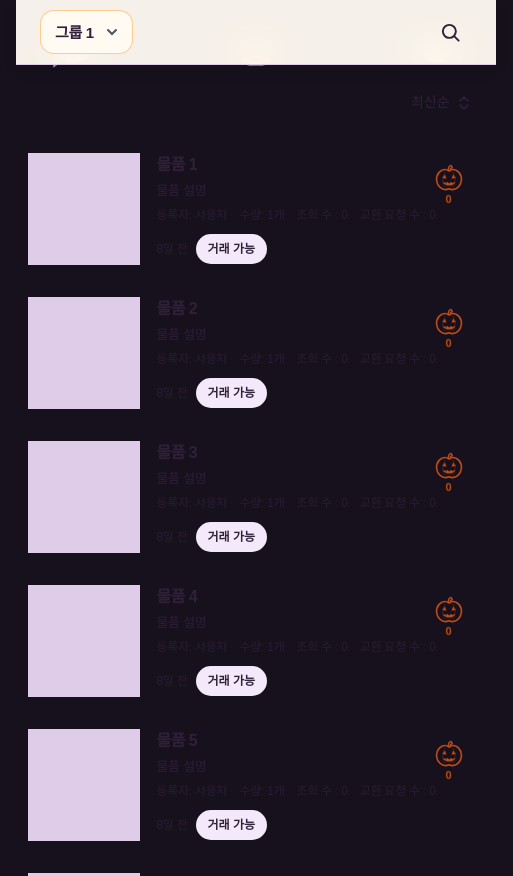
Test: 그룹 전환과 재선택 시 새 첫 페이지를 조회하고 최상단으로 이동한다
The width and height of the screenshot is (513, 876).
Click the button "그룹 1".
click(86, 32)  # box [40,10,133,54]
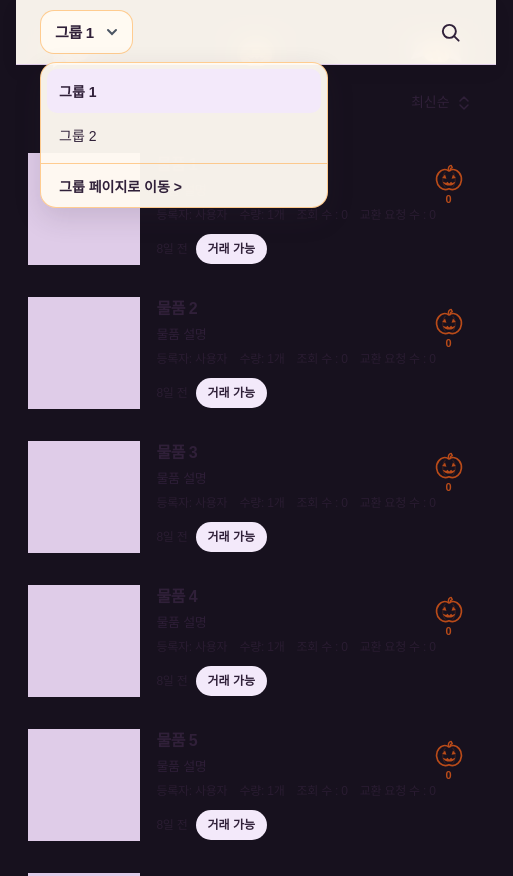
Click the button "그룹 2".
click(78, 136)  # box [47,113,321,157]
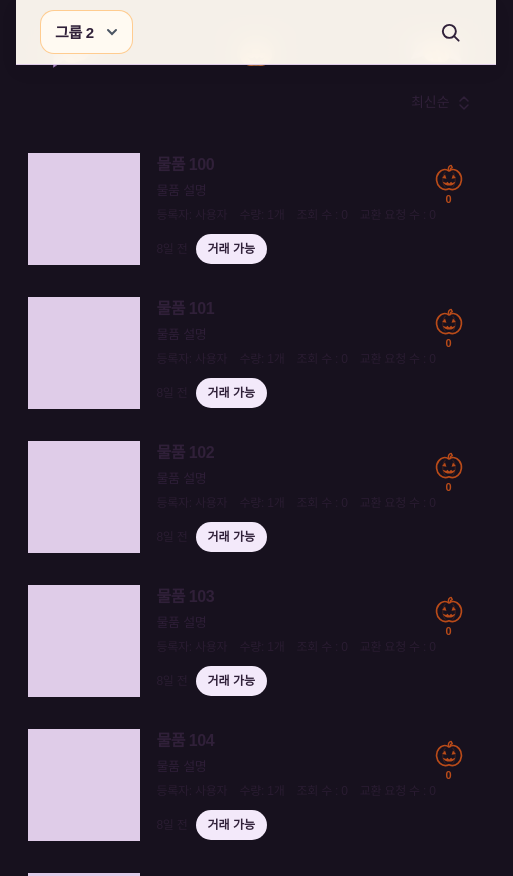
Click the button "그룹 2".
click(86, 32)  # box [40,10,133,54]
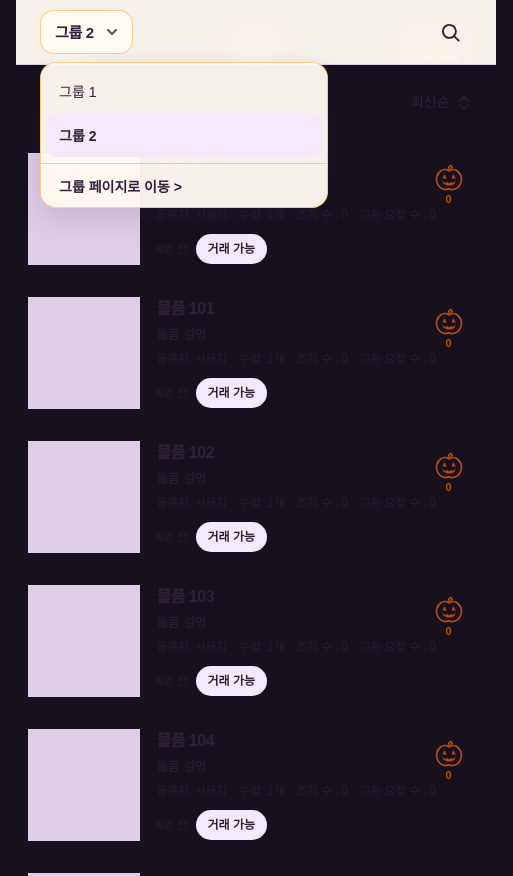
Click the button "그룹 1".
click(78, 92)  # box [47,69,321,113]
(page scrolled)
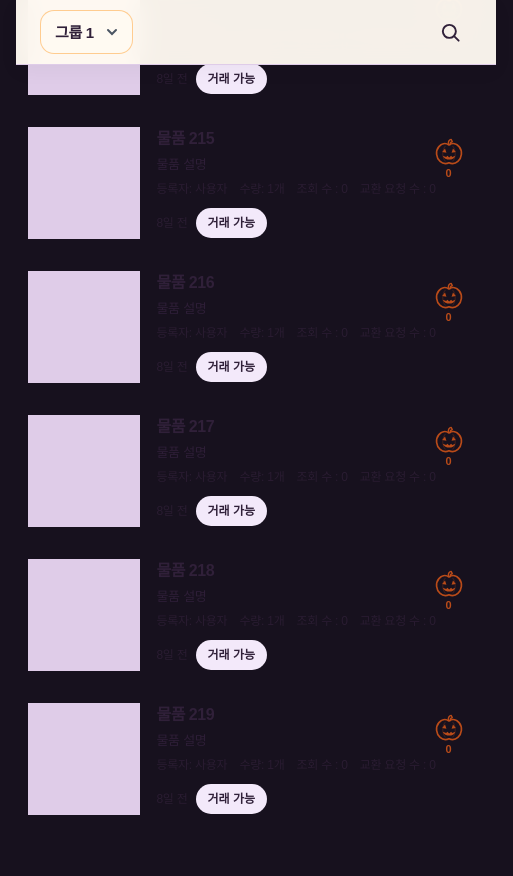
Check: the heading "물품 219" is shown, box [156,706,214,723]
